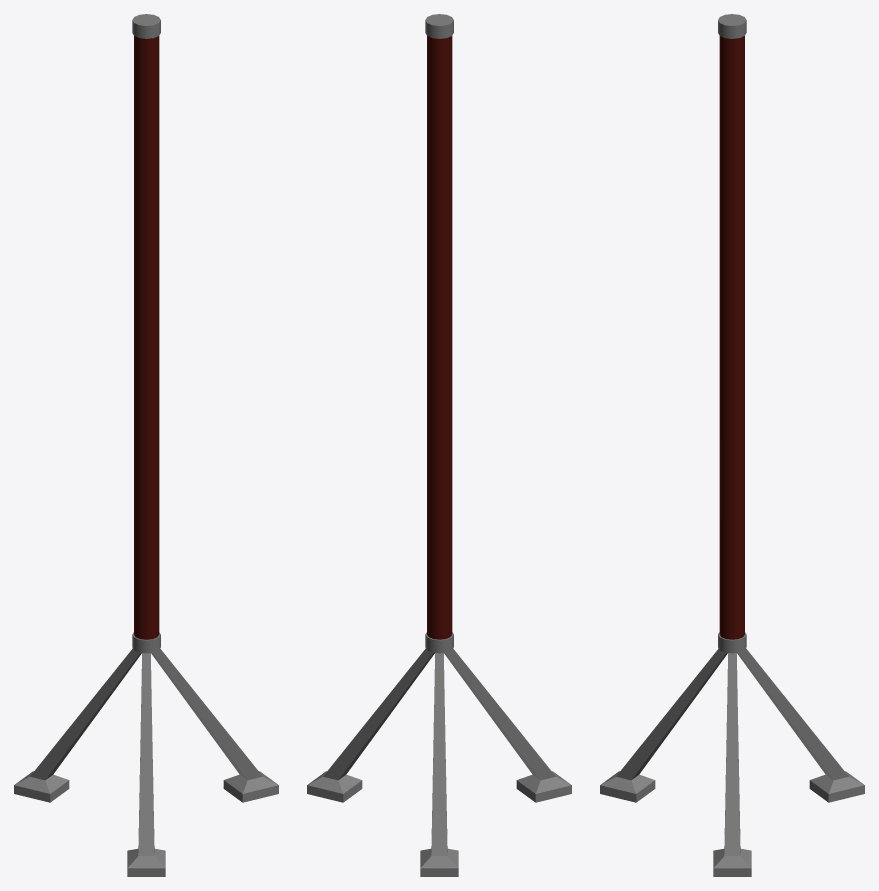
Rendered from SM_PlaceLamp_a01.fbx.
3 renders of one model, left to right at view 1: azimuth 30°, elevation 25°; view 2: azimuth 150°, elevation 25°; view 3: azimuth 270°, elevation 25°, orthographic.
Parts seen in each view (by area): view 1: SM_PlaceLamp_a01; view 2: SM_PlaceLamp_a01; view 3: SM_PlaceLamp_a01.
Part boxes in pixels (<box>): SM_PlaceLamp_a01: <box>14,14,278,876</box>; SM_PlaceLamp_a01: <box>307,14,571,876</box>; SM_PlaceLamp_a01: <box>600,14,864,876</box>.
Bounding box in the file's own units: 57.34 × 220 × 66.21.
